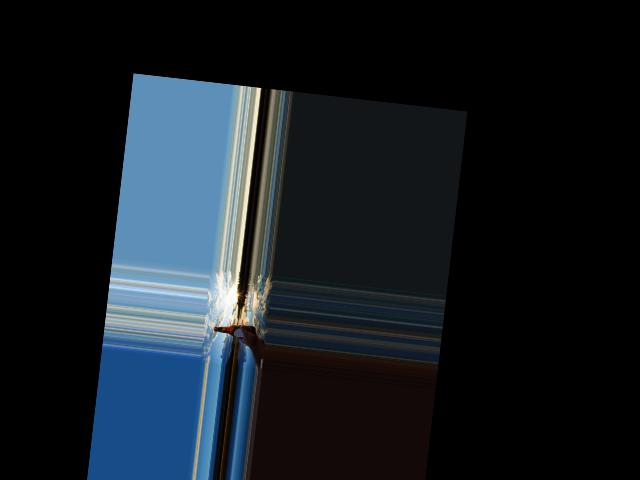beer: (213, 321, 254, 338)
